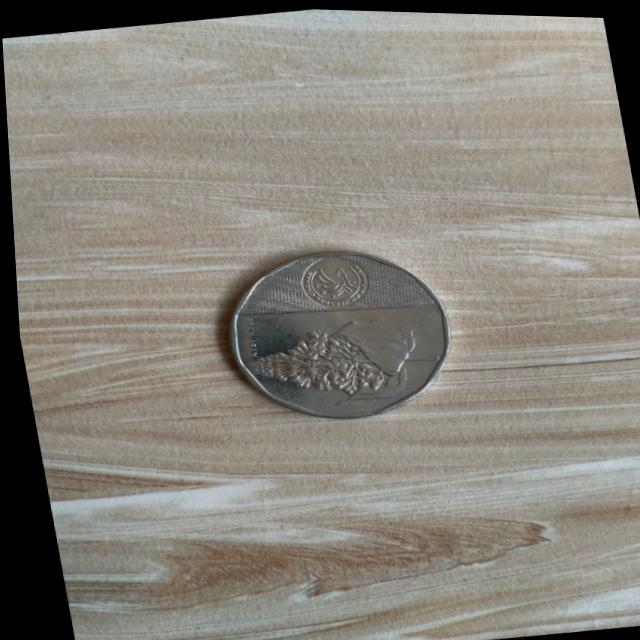10_New_Back: (226, 299, 448, 414)
